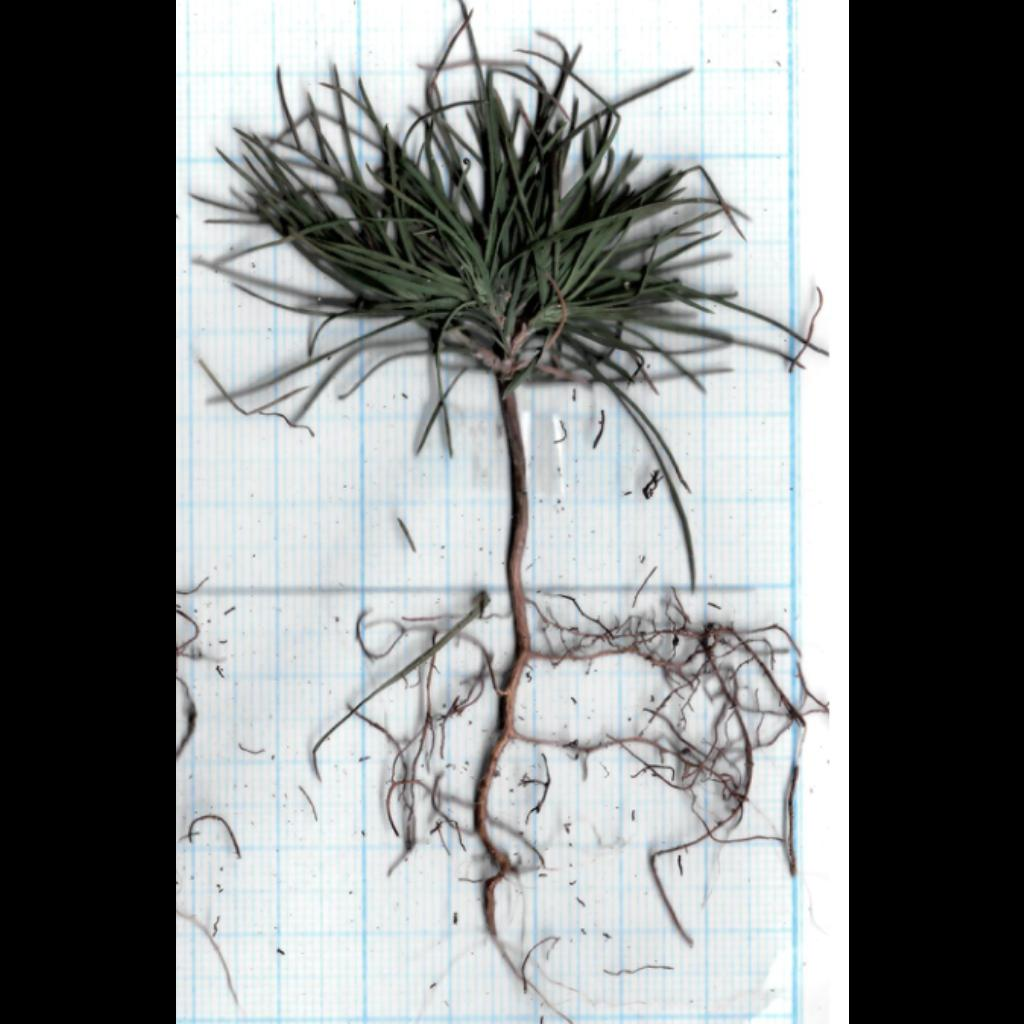flowerCedr: (193, 4, 826, 580)
rootCedr: (312, 579, 829, 986)
stemCedr: (500, 392, 529, 584)
